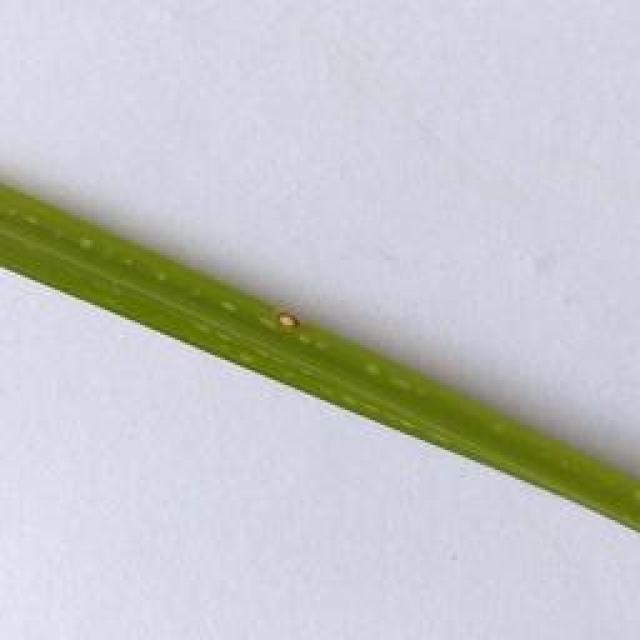Unhealthy: (275, 313, 299, 329)
